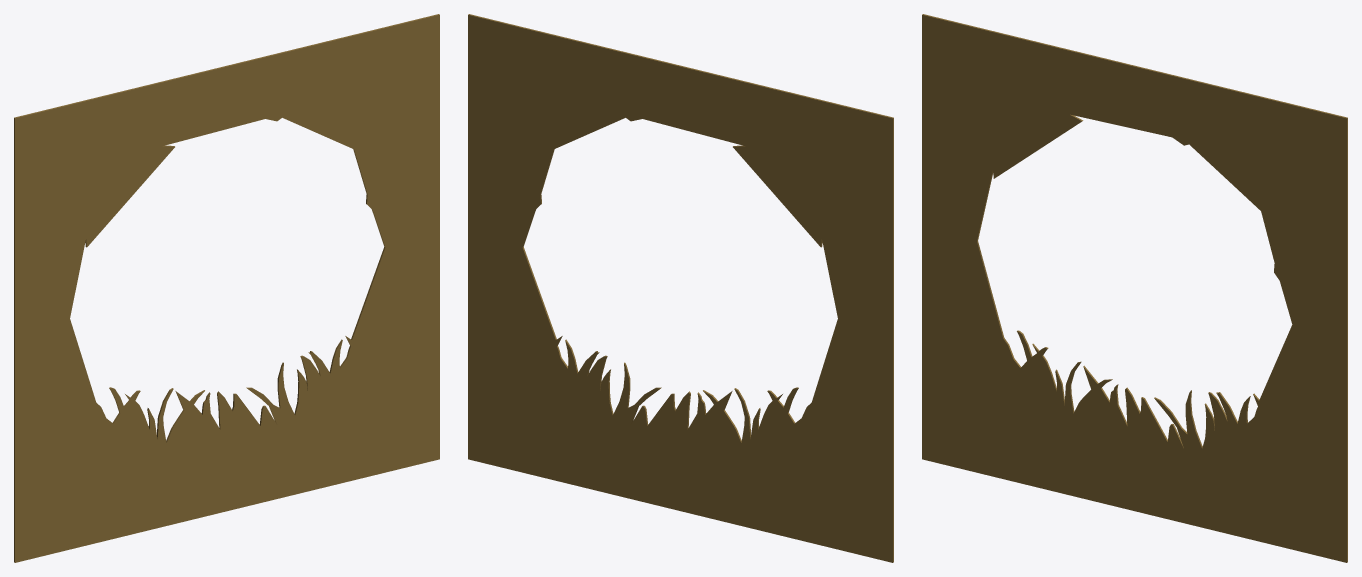
The model's file is Autumn_C_1.fbx.
The picture shows the model from 3 angles, left to right: view 1: azimuth 30°, elevation 25°; view 2: azimuth 150°, elevation 25°; view 3: azimuth 330°, elevation 25°; orthographic projection.
Visible parts, largest first — view 1: fall1c; view 2: fall1c; view 3: fall1c.
Part boxes in pixels (<box>): fall1c: <box>14,14,439,562</box>; fall1c: <box>468,14,893,562</box>; fall1c: <box>922,14,1347,562</box>.
Bounding box in the file's own units: 10.12 × 10.12 × 0.0459.
